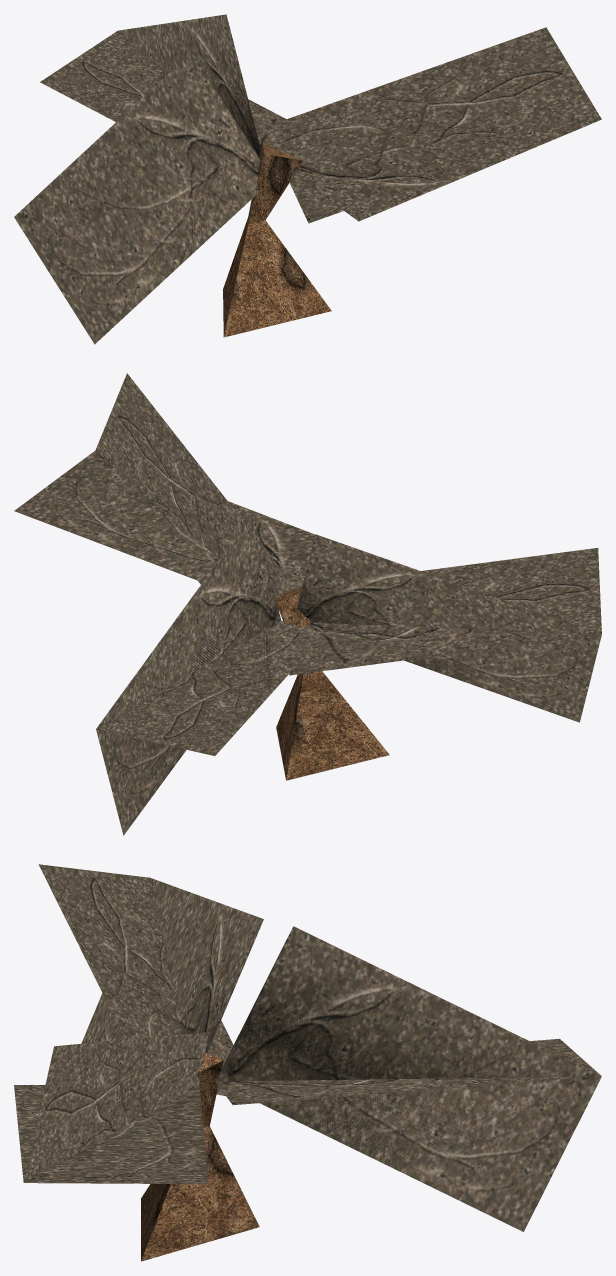
File: shrb_dath_remmy_l2.fbx
3 views of the same model, one above another, from view 1: azimuth 30°, elevation 25°; view 2: azimuth 150°, elevation 25°; view 3: azimuth 270°, elevation 25° (orthographic). The views are drawn at different scales.
Parts seen in each view (by area): view 1: mesh_node; view 2: mesh_node; view 3: mesh_node.
Part boxes in pixels (x1,y1,x2,y2): mesh_node: (14,14,601,344); mesh_node: (14,373,601,835); mesh_node: (14,864,601,1261).
Size of the model in its own units: 4.36 by 2.08 by 3.47.
